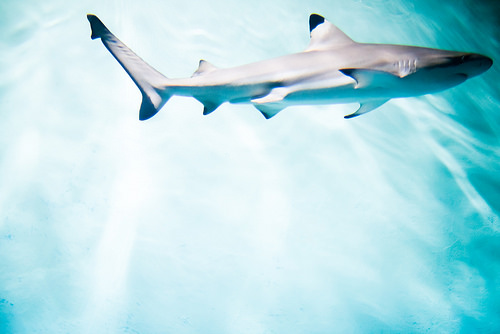shark: (72, 3, 496, 128)
